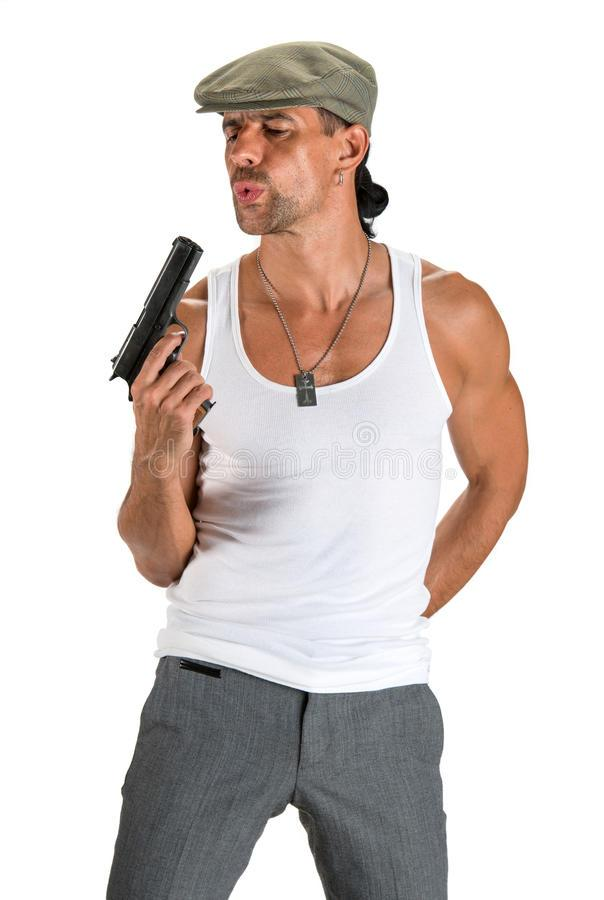criminal: (103, 36, 530, 900)
weapon: (105, 230, 218, 431)
